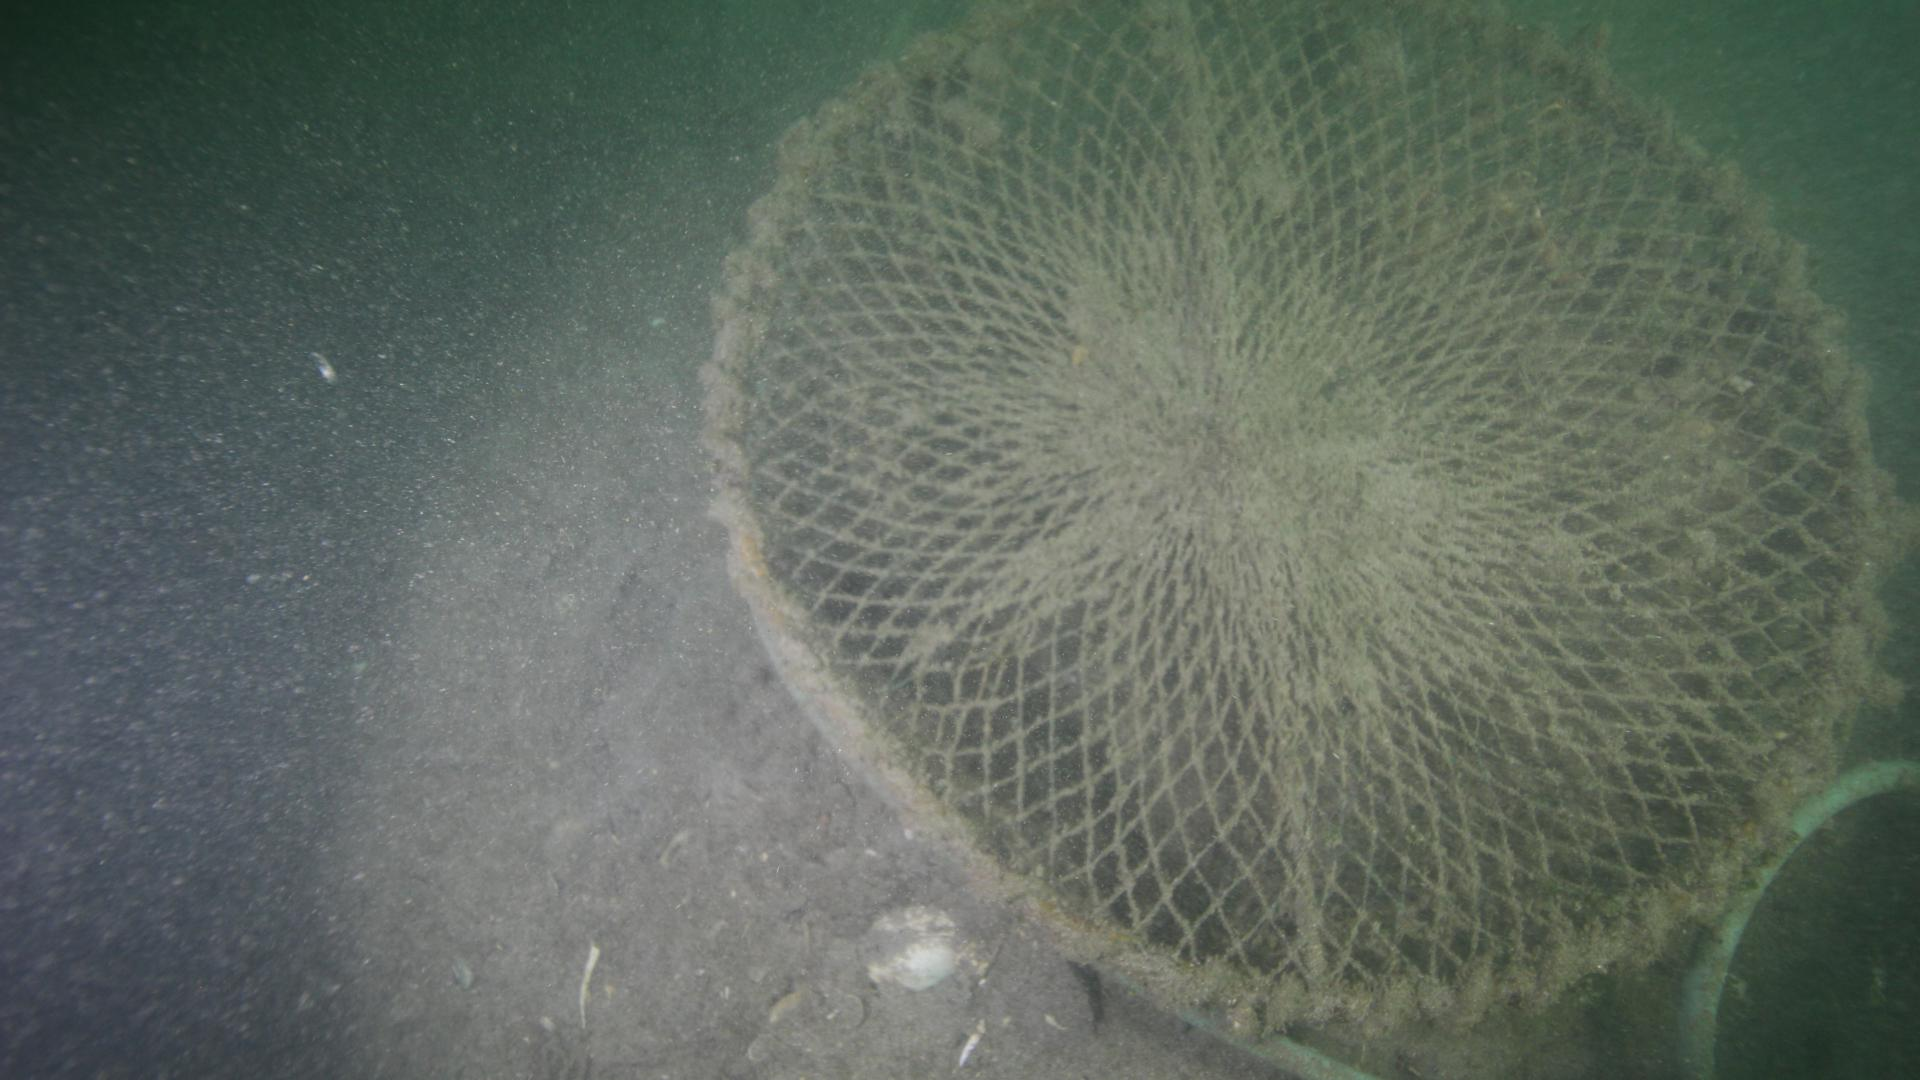circular fish trap: (703, 0, 1888, 1027)
